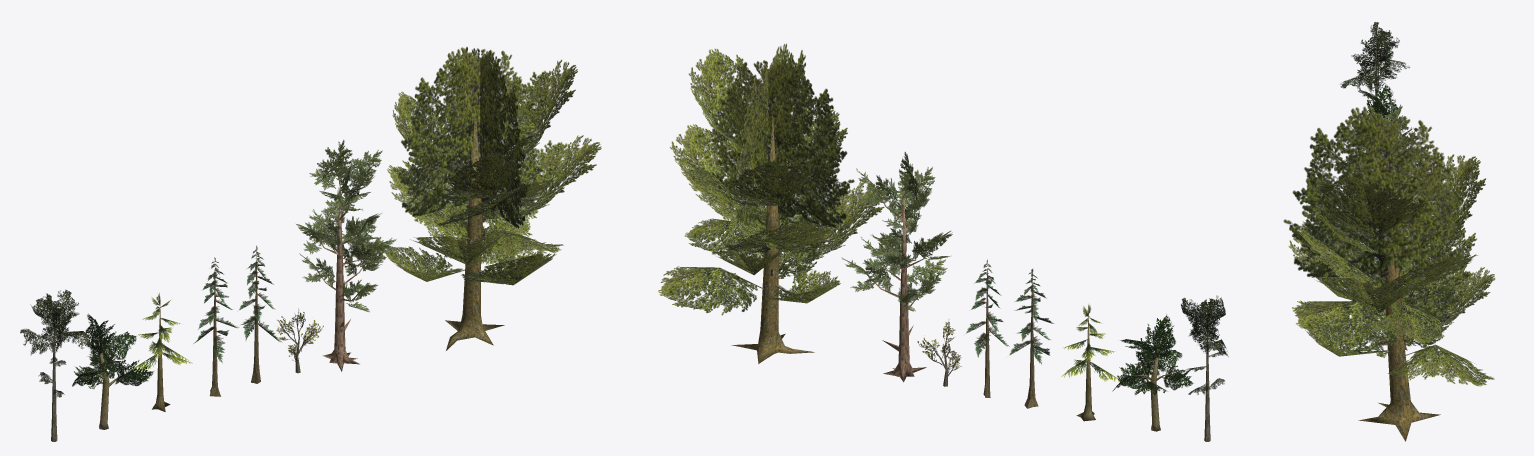
Rendered from tree_1.glb.
3 renders of one model, left to right at view 1: azimuth 30°, elevation 25°; view 2: azimuth 150°, elevation 25°; view 3: azimuth 270°, elevation 25°, orthographic. The views are drawn at different scales.
Parts seen in each view (by area): view 1: Tree, Tree_1, Tree_6, Tree_7, Tree_5, Tree_4, Tree_3, Tree_2; view 2: Tree, Tree_1, Tree_6, Tree_7, Tree_4, Tree_5, Tree_3, Tree_2; view 3: Tree, Tree_7, Tree_6, Tree_1.
Boxes of the visible parts, x1,y1,x2,y2 form: Tree: (383, 47, 601, 350); Tree_1: (296, 139, 396, 371); Tree_6: (72, 314, 153, 429); Tree_7: (20, 289, 90, 441); Tree_5: (132, 293, 192, 411); Tree_4: (193, 257, 238, 396); Tree_3: (239, 245, 282, 383); Tree_2: (276, 308, 323, 373); Tree: (658, 43, 885, 363); Tree_1: (841, 151, 952, 382); Tree_6: (1112, 314, 1193, 431); Tree_7: (1181, 295, 1228, 441); Tree_4: (1009, 269, 1054, 408); Tree_5: (1061, 304, 1119, 421); Tree_3: (966, 259, 1009, 397); Tree_2: (917, 319, 961, 386); Tree: (1283, 105, 1495, 441); Tree_7: (1340, 22, 1409, 171); Tree_6: (1334, 83, 1426, 193); Tree_1: (1350, 102, 1434, 350).
Bounding box in the file's own units: 40.59 × 19.89 × 14.08.
14 materials, 14 textured.
